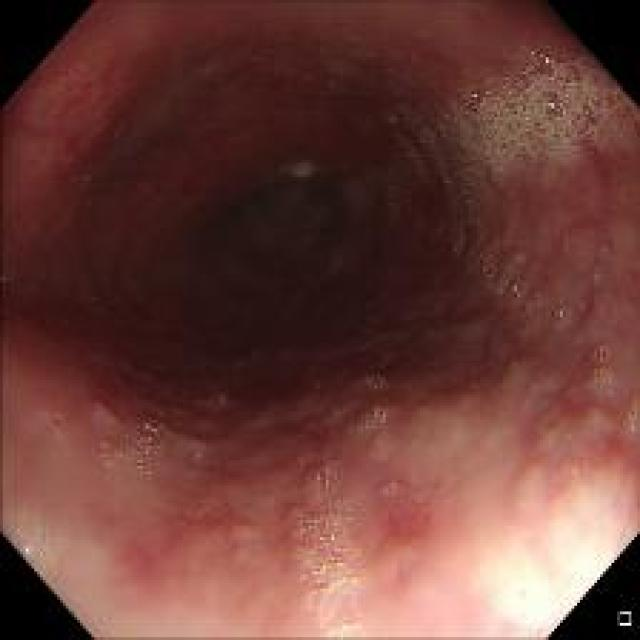bubbles: (386, 45, 618, 196), (280, 455, 371, 631), (102, 411, 180, 486), (469, 239, 525, 300), (349, 391, 400, 446), (586, 341, 621, 399), (576, 274, 610, 304), (620, 390, 638, 436), (550, 301, 572, 329), (211, 386, 234, 408), (382, 481, 404, 495), (529, 288, 546, 305), (596, 248, 612, 259)
color misalignment: (308, 480, 359, 592), (142, 420, 170, 456), (339, 615, 365, 631), (509, 282, 520, 299), (135, 455, 145, 470), (555, 308, 565, 322)
contrast: (95, 94, 444, 381)
saturation: (466, 504, 625, 630)
specularity: (22, 532, 42, 556), (540, 51, 554, 66), (548, 101, 559, 111)
